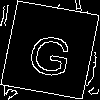G: (25, 25, 77, 79)
